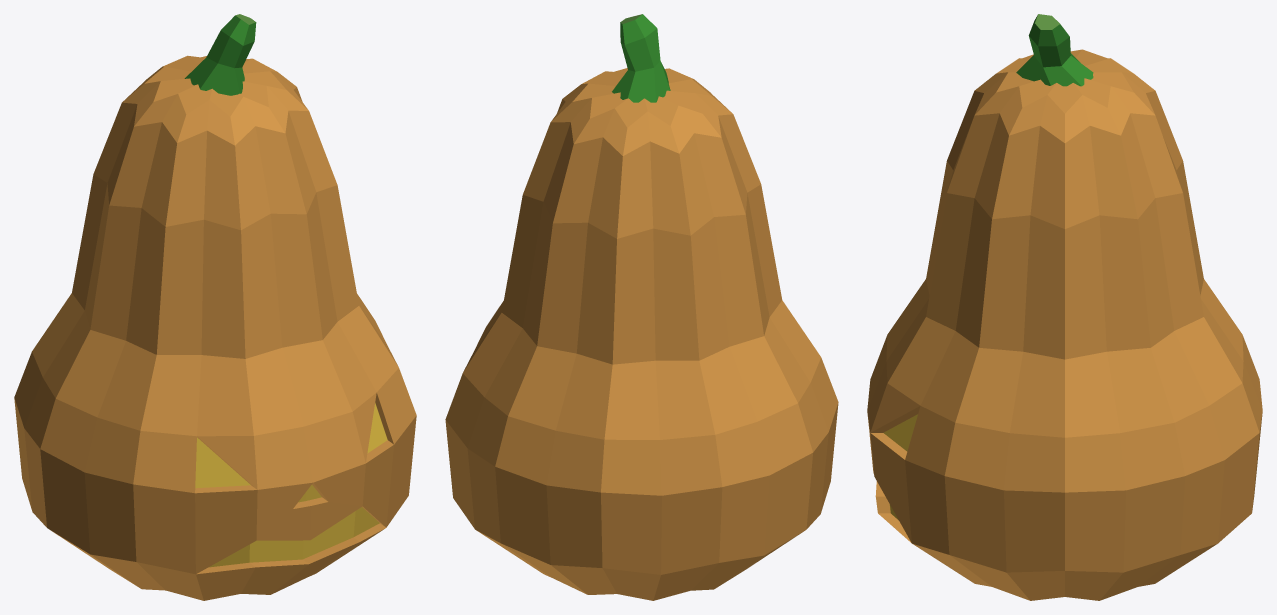
Rendered from pumpkin_2_yellow_mat.fbx.
3 views of the same model, side by side, from view 1: azimuth 30°, elevation 25°; view 2: azimuth 150°, elevation 25°; view 3: azimuth 270°, elevation 25° (orthographic). The views are drawn at different scales.
Parts seen in each view (by area): view 1: pumpkin_2_yellow_mat; view 2: pumpkin_2_yellow_mat; view 3: pumpkin_2_yellow_mat.
Part boxes in pixels (x1,y1,x2,y2): pumpkin_2_yellow_mat: [14, 14, 416, 600]; pumpkin_2_yellow_mat: [445, 14, 838, 600]; pumpkin_2_yellow_mat: [867, 14, 1262, 600].
Size of the model in its own units: 186 by 278 by 180.
